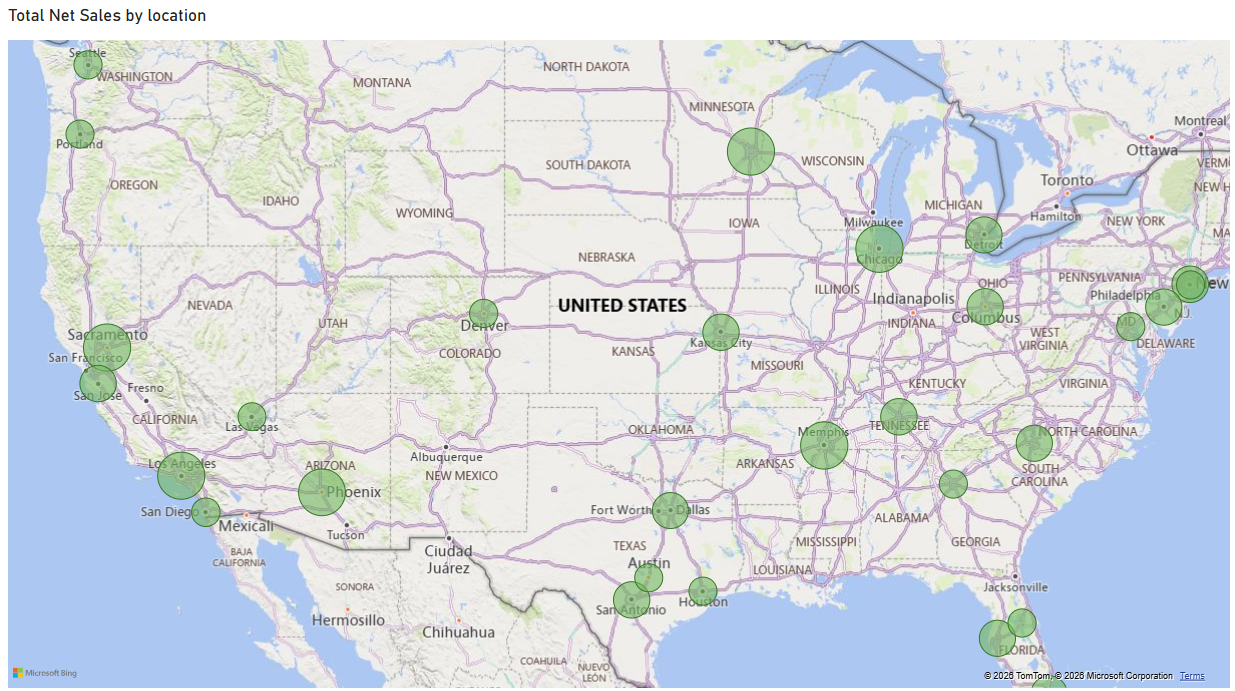

What the dashboard file says about the page in this screenshot:
{"tool":"powerbi","page":{"name":"Map","canvas":[1280,720],"ordinal":5},"visuals":[{"type":"map","fields":{"Category":["dim_stores.location"],"Size":["Measures Table.Total Net Sales"]},"box":[18.3,17.1,1228.8,685.7],"z":0}]}

Visuals, with their boxes in screenshot pixels (x1, y1, x2, y2), scaled from the page's 1280x720 canvas onto the 1235x691 screenshot:
map - dim_stores.location x Measures Table.Total Net Sales: x1=18, y1=16, x2=1203, y2=674
